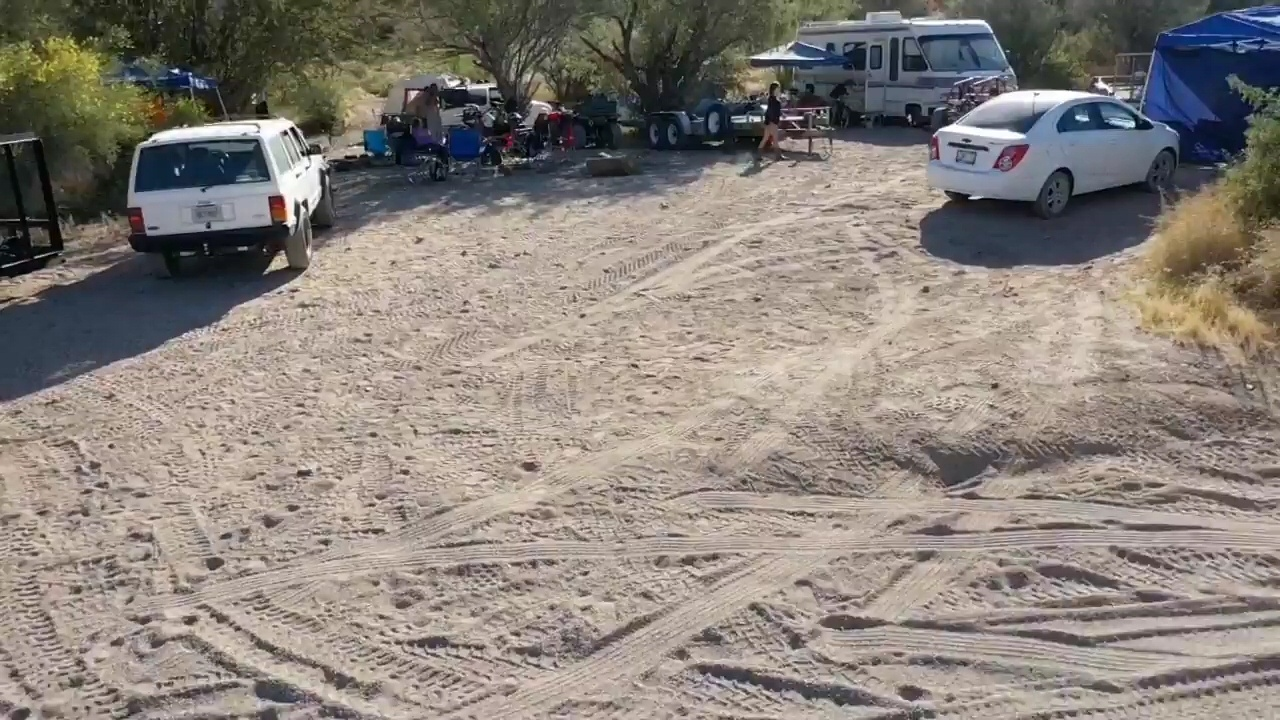araba: (115, 105, 341, 284), (920, 82, 1193, 214)
insan: (749, 80, 784, 165)
otobus: (792, 9, 1019, 126)
